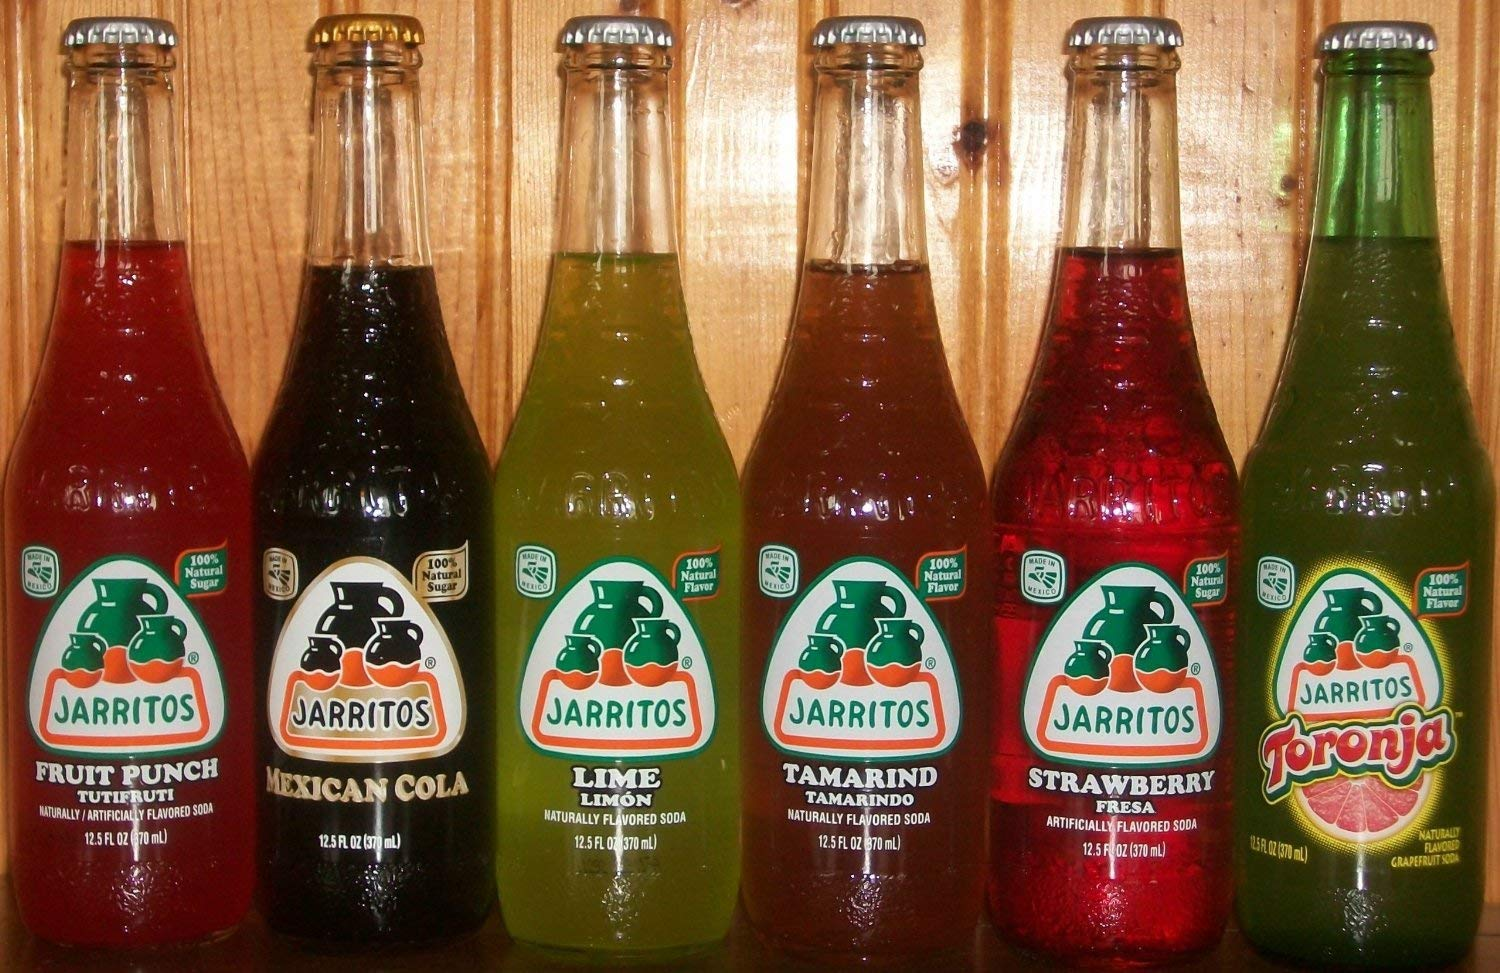Rec_Glass: (740, 15, 997, 964), (4, 1, 255, 961), (993, 5, 1243, 960), (1240, 15, 1486, 968), (253, 24, 500, 946), (499, 17, 738, 964)
